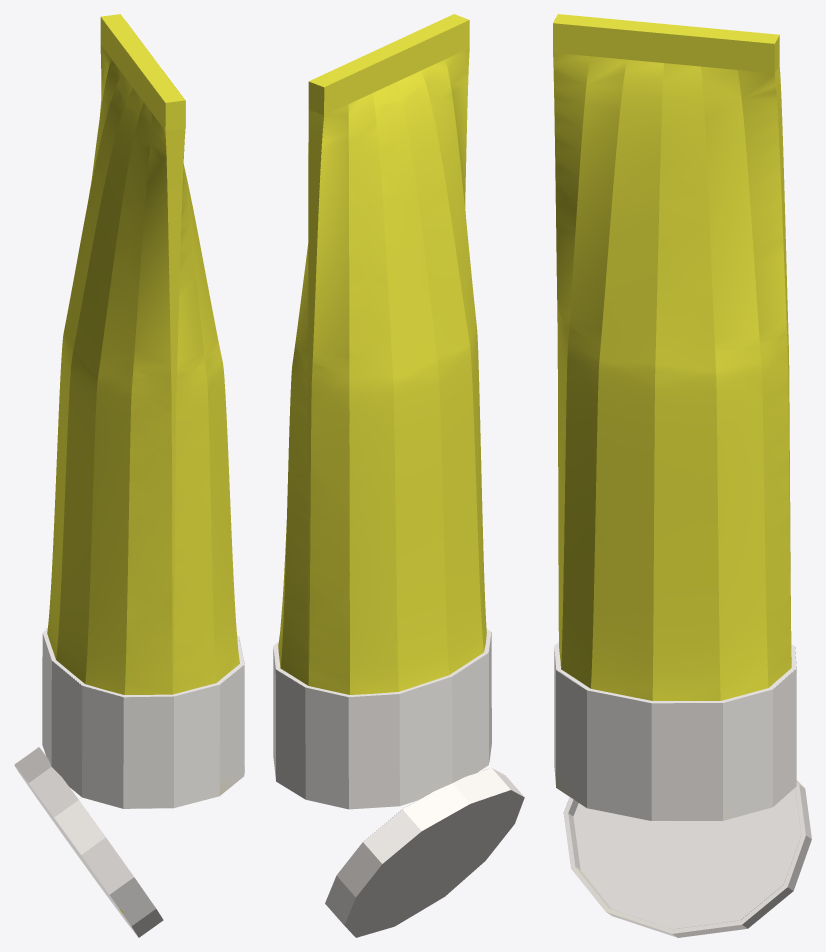
Rendered from NEW 2 pomata aperta 1.fbx.
3 renders of one model, left to right at view 1: azimuth 30°, elevation 25°; view 2: azimuth 150°, elevation 25°; view 3: azimuth 270°, elevation 25°, orthographic. The views are drawn at different scales.
Visible parts, largest first — view 1: Object_3.001; view 2: Object_3.001; view 3: Object_3.001.
Part boxes in pixels (box(x1,y1,x2,y2)): Object_3.001: box(14, 14, 244, 937); Object_3.001: box(273, 14, 524, 937); Object_3.001: box(553, 14, 811, 937).
Bounding box in the file's own units: 6.41 × 27.31 × 7.01.
